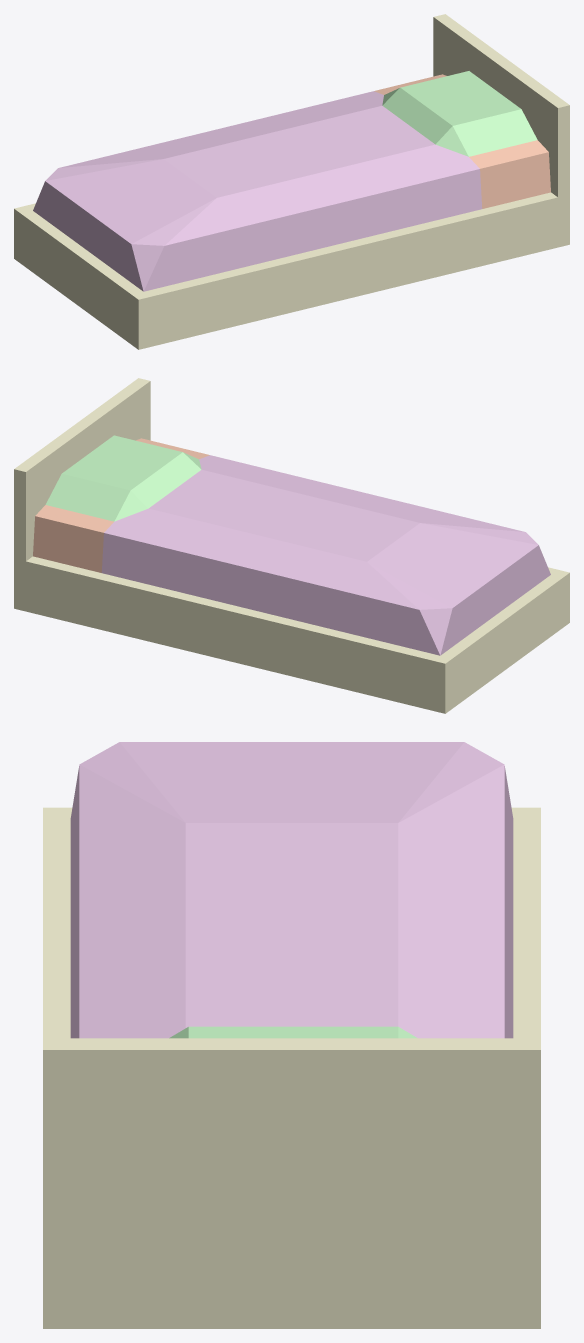
File: Bed_Single.glb
3 renders of one model, top to bottom at view 1: azimuth 30°, elevation 25°; view 2: azimuth 150°, elevation 25°; view 3: azimuth 270°, elevation 25°, orthographic. The views are drawn at different scales.
Visible parts, largest first — view 1: Bed Single; view 2: Bed Single; view 3: Bed Single.
Part boxes in pixels (<box>): Bed Single: <box>14,14,569,349</box>; Bed Single: <box>14,378,569,713</box>; Bed Single: <box>43,742,540,1328</box>.
Bounding box in the file's own units: 1.8 × 0.556 × 0.9.
